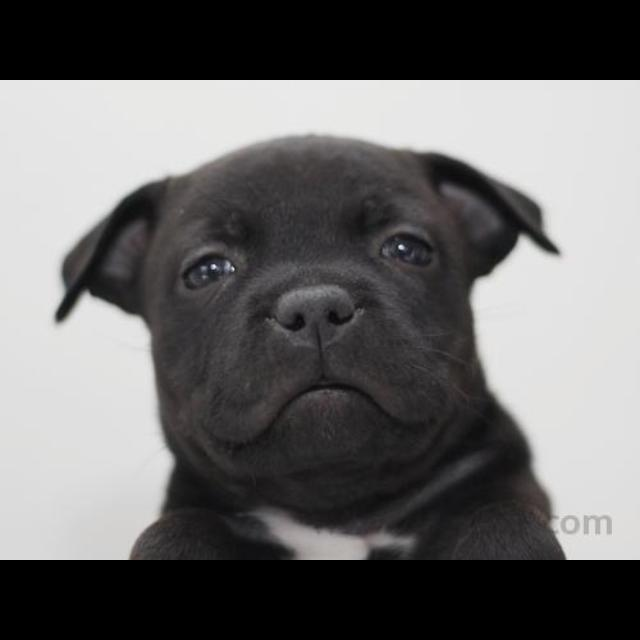staffford: (54, 131, 581, 559)
